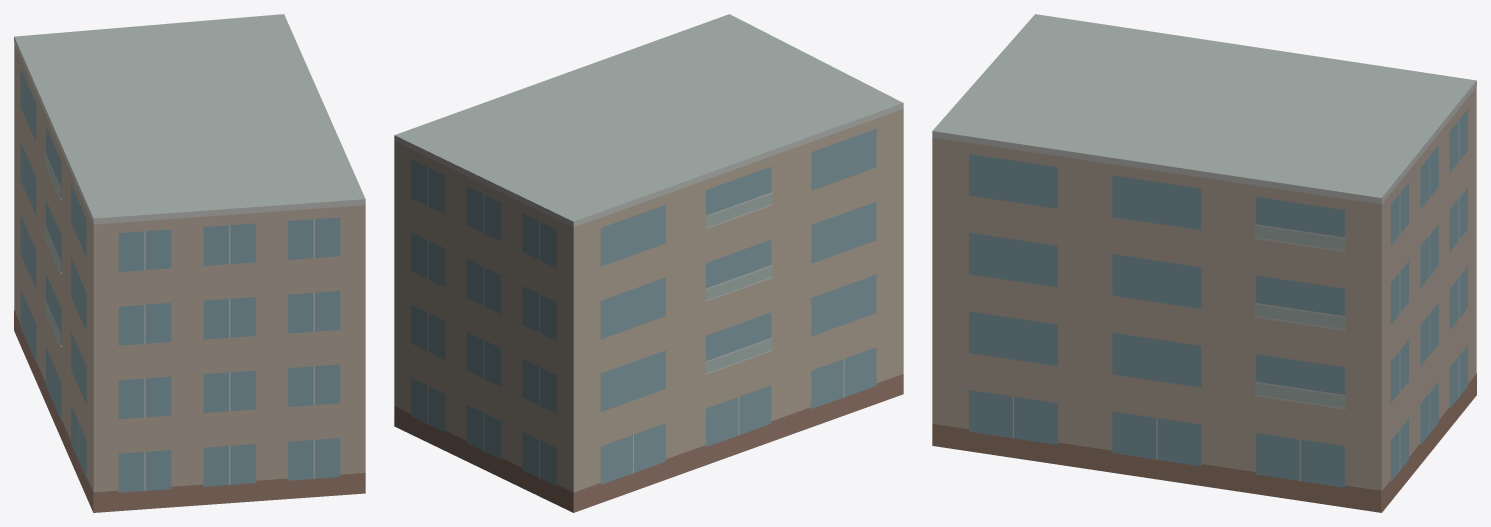
File: survey-upis-32884863.glb
The picture shows the model from 3 angles, left to right: view 1: azimuth 30°, elevation 25°; view 2: azimuth 150°, elevation 25°; view 3: azimuth 270°, elevation 25°; orthographic projection. The views are drawn at different scales.
Parts seen in each view (by area): view 1: survey-upis-32884863.tmp; view 2: survey-upis-32884863.tmp; view 3: survey-upis-32884863.tmp.
Part boxes in pixels (x1=…): survey-upis-32884863.tmp: x1=14, y1=14, x2=365, y2=512; survey-upis-32884863.tmp: x1=394, y1=14, x2=903, y2=512; survey-upis-32884863.tmp: x1=932, y1=14, x2=1476, y2=512.
Bounding box in the file's own units: 15.31 × 12.2 × 19.13.
